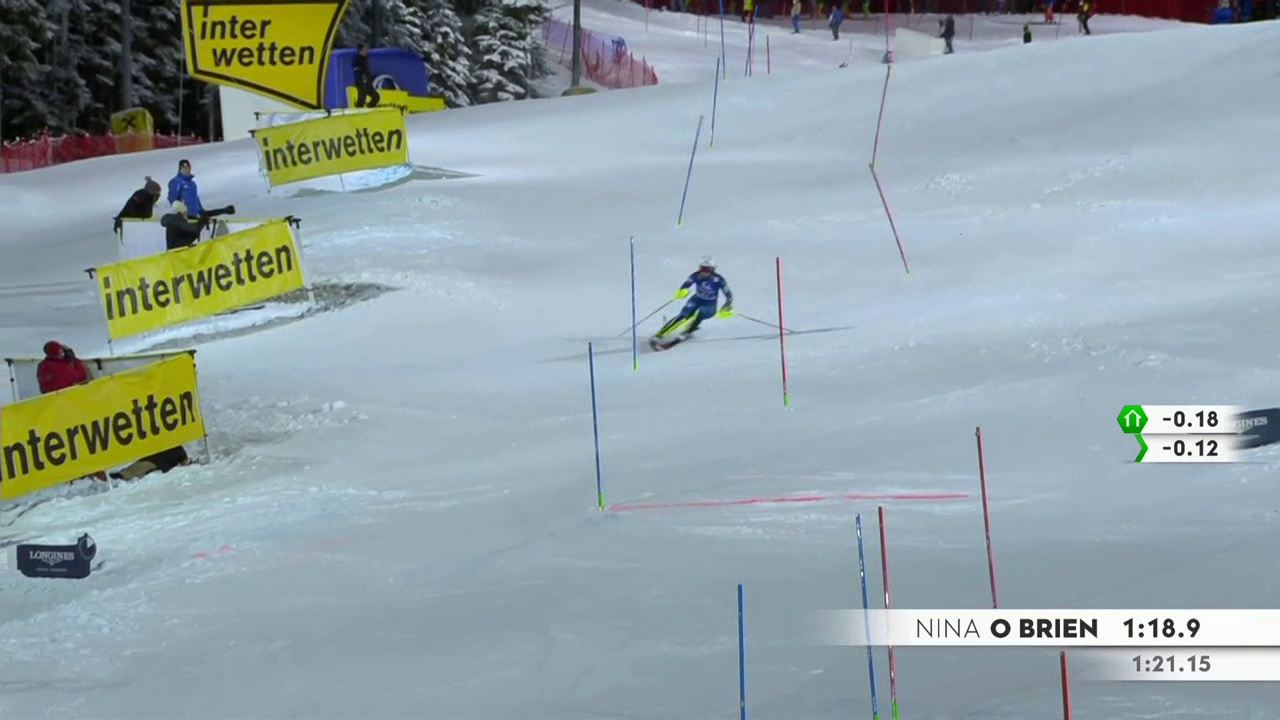interwetten: (91, 236, 298, 336), (183, 1, 337, 102), (243, 110, 420, 186)
raiffeisen: (6, 380, 198, 497), (255, 108, 417, 186)
